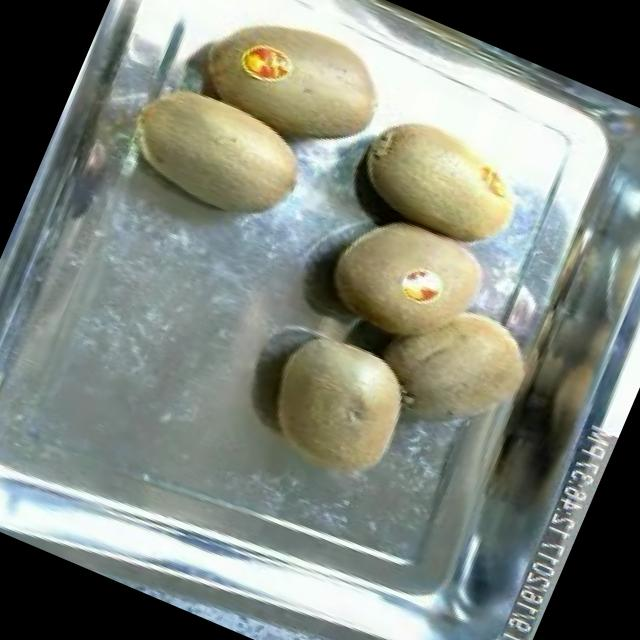Fruit: (100, 64, 322, 246), (350, 268, 553, 464), (237, 308, 436, 504), (303, 195, 507, 376), (340, 92, 544, 260), (220, 0, 408, 153), (228, 26, 306, 100)
